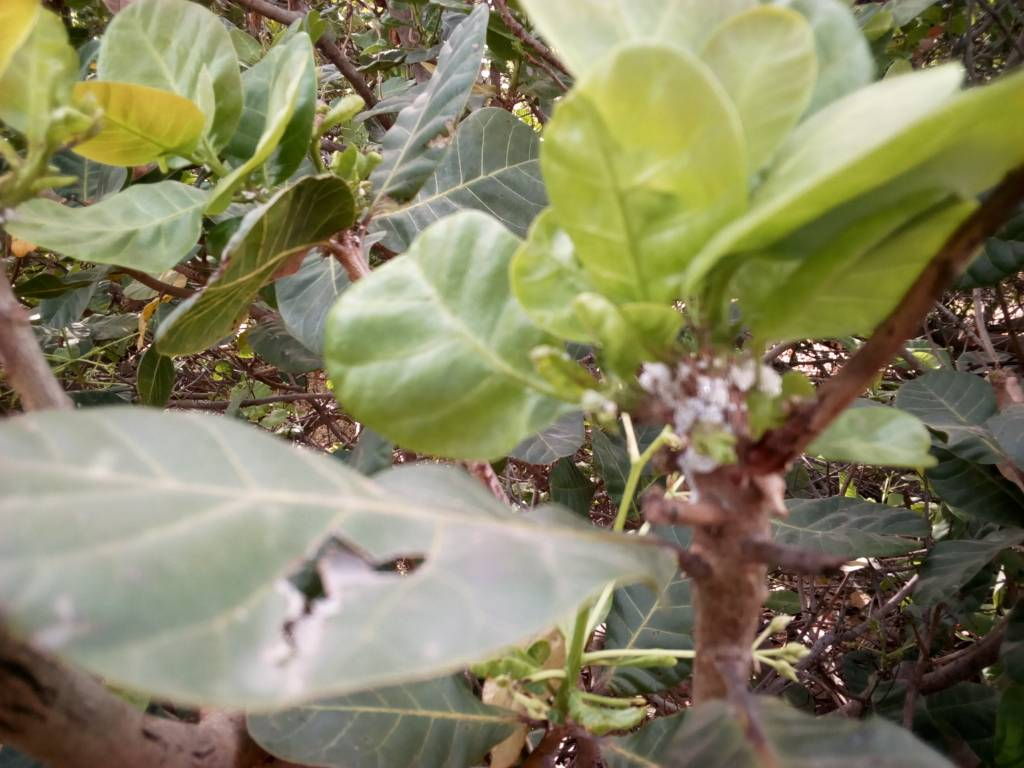Anoplocnemis curvipes: (52, 455, 524, 687)
